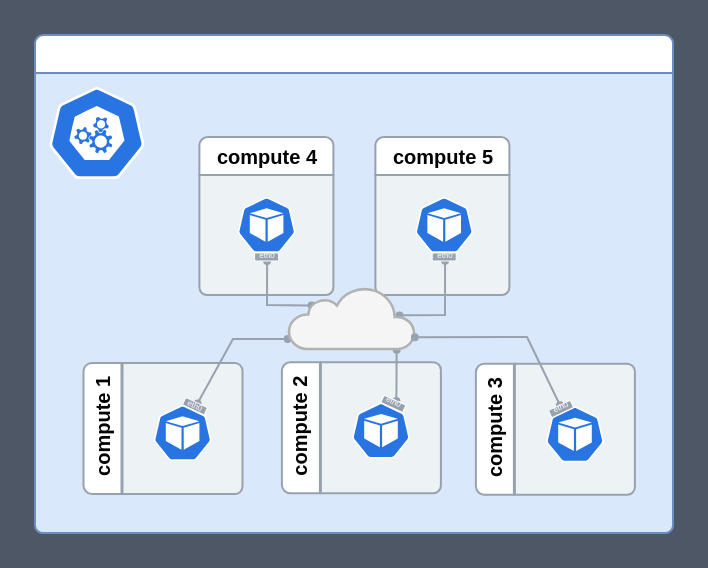
The diagram is 708 pixels wide and 568 high, and some of its shapes have lost their labels. The centre of each missing label's shape, as x and y in pixels:
"k8s Pod network" belongs at point 351,317.
"Kubernetes cluster" belongs at point 353,53.
